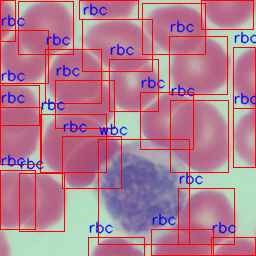rbc: (170, 100, 228, 172), (40, 114, 106, 172), (82, 19, 152, 71), (169, 36, 227, 94), (142, 3, 205, 54), (178, 188, 234, 244), (62, 136, 121, 188), (45, 49, 101, 103), (140, 92, 193, 149), (18, 1, 73, 54), (55, 80, 114, 128), (19, 173, 64, 231), (109, 59, 158, 111), (0, 30, 48, 83), (0, 107, 41, 164), (0, 170, 35, 229), (151, 229, 213, 255), (0, 85, 39, 125), (201, 0, 253, 29), (233, 47, 255, 108), (233, 108, 255, 167), (79, 0, 138, 19), (88, 237, 144, 256), (211, 237, 255, 255), (0, 0, 15, 41)
wbc: (98, 139, 189, 244)
